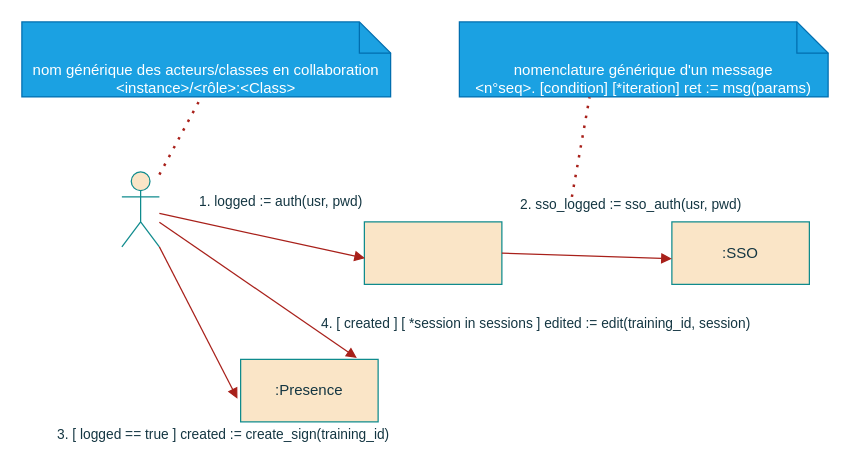
Image size: 850x465. Some labels were removed from this diagram. The shapes that lost their labels are listed below. From the top down, each one's box as (x1, y1, x2, y2) in pixels, then its label:
(121, 171, 159, 247): participant:Trainee
(363, 221, 502, 284): :Auth
